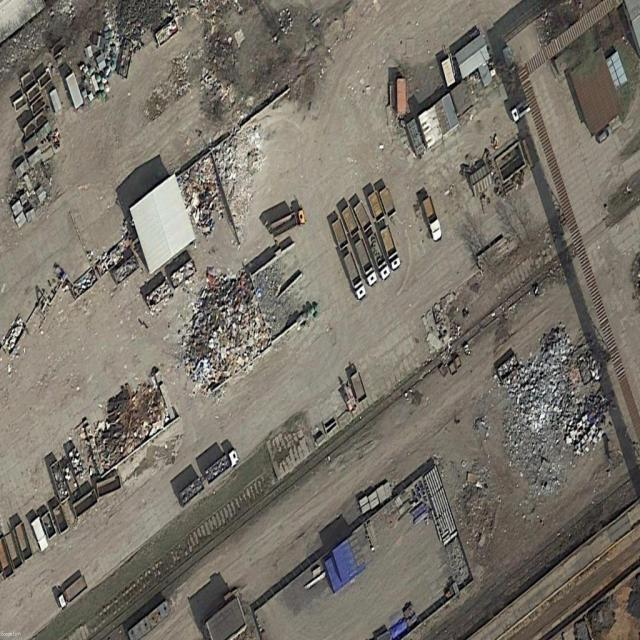dump_site: (486, 311, 623, 521), (167, 246, 272, 403), (88, 365, 171, 473), (177, 152, 230, 239)
